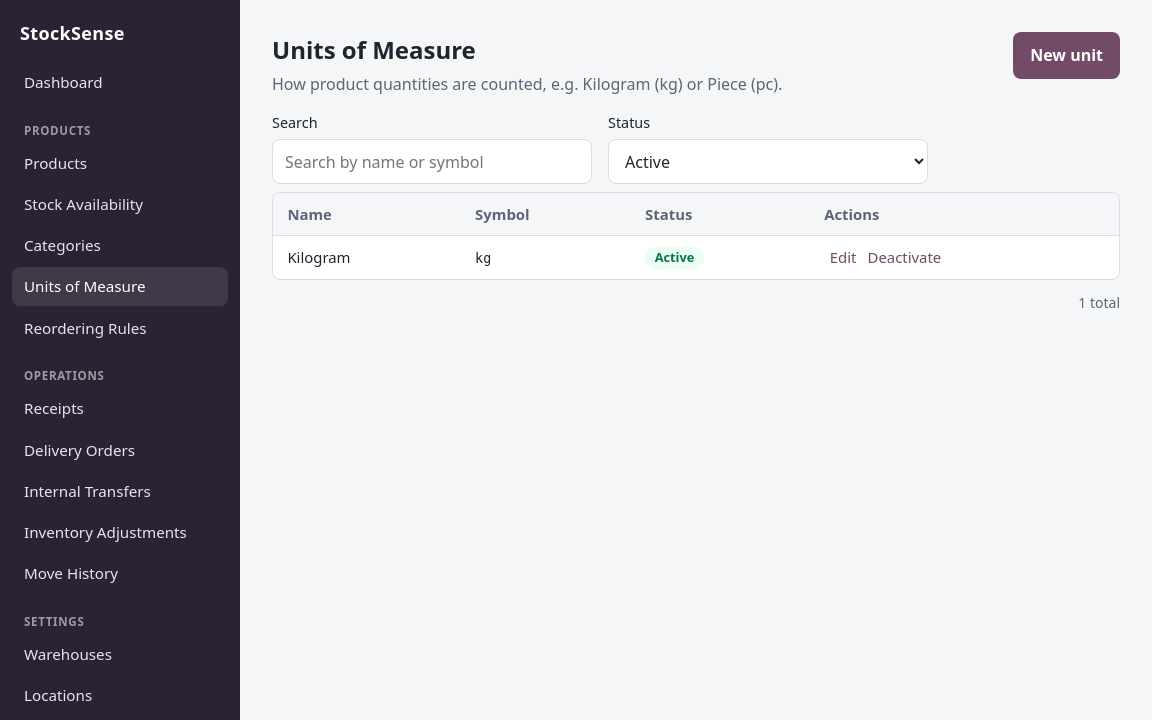
Test: units of measure › shows a duplicate-symbol error from the API
Click the button "New unit" at coordinates (1067, 55), box [1013,32,1120,79]
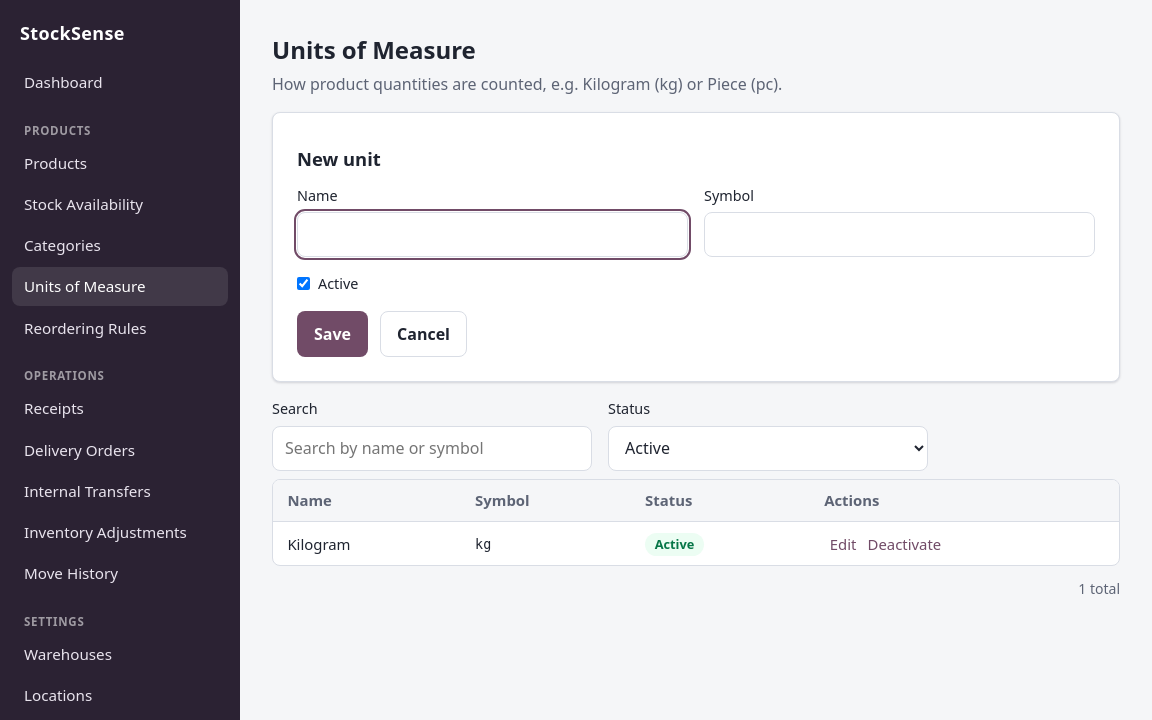
Type "Kilo" into the field labelled "Name" at coordinates (492, 234), box [297,212,688,257]
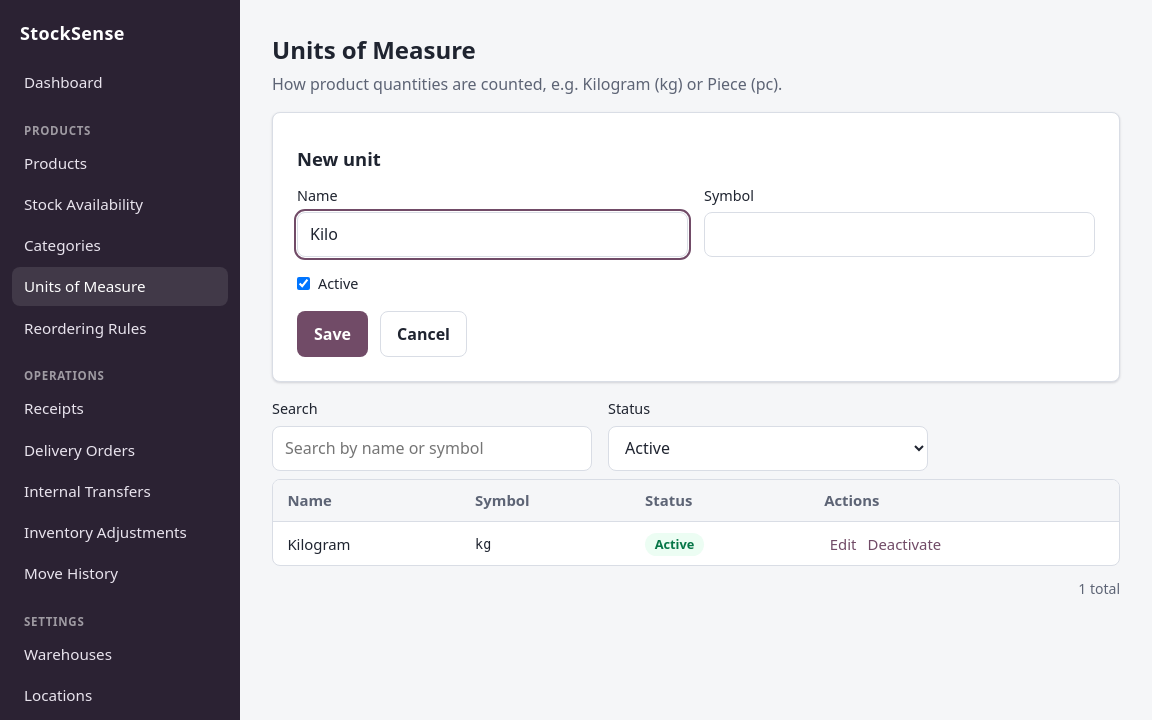
Type "kg" into the field labelled "Symbol" at coordinates (900, 234), box [704,212,1095,257]
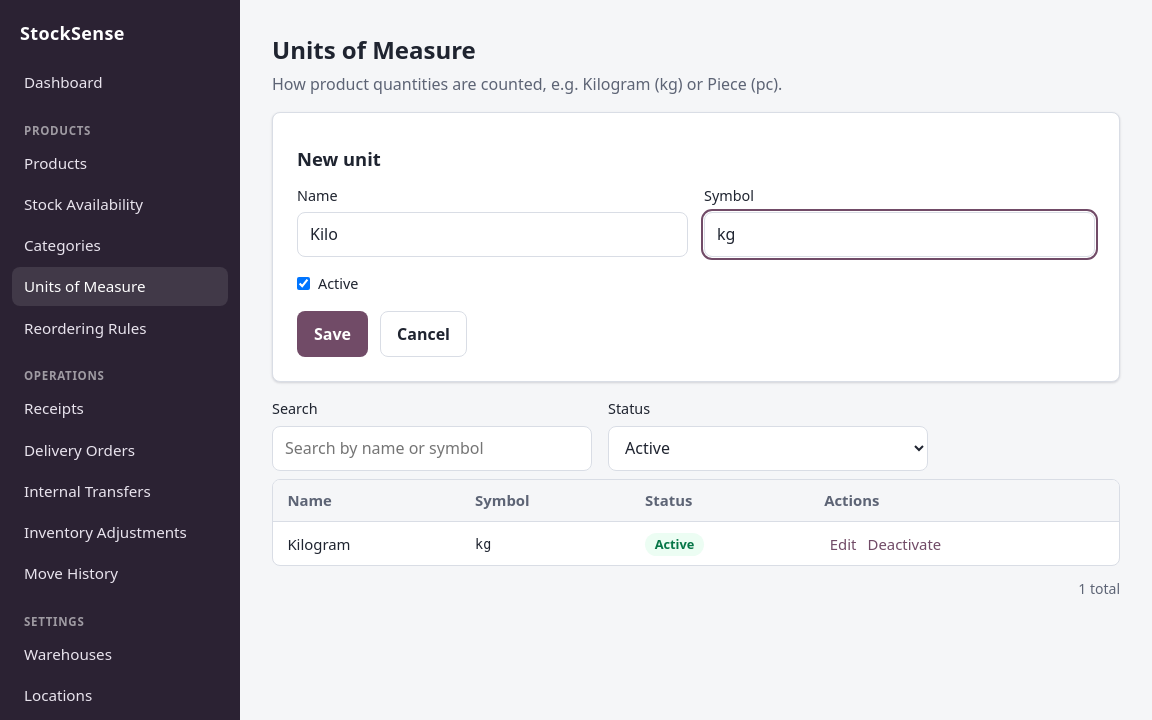
Click the button "Save" at coordinates (332, 334), box [297,311,368,357]
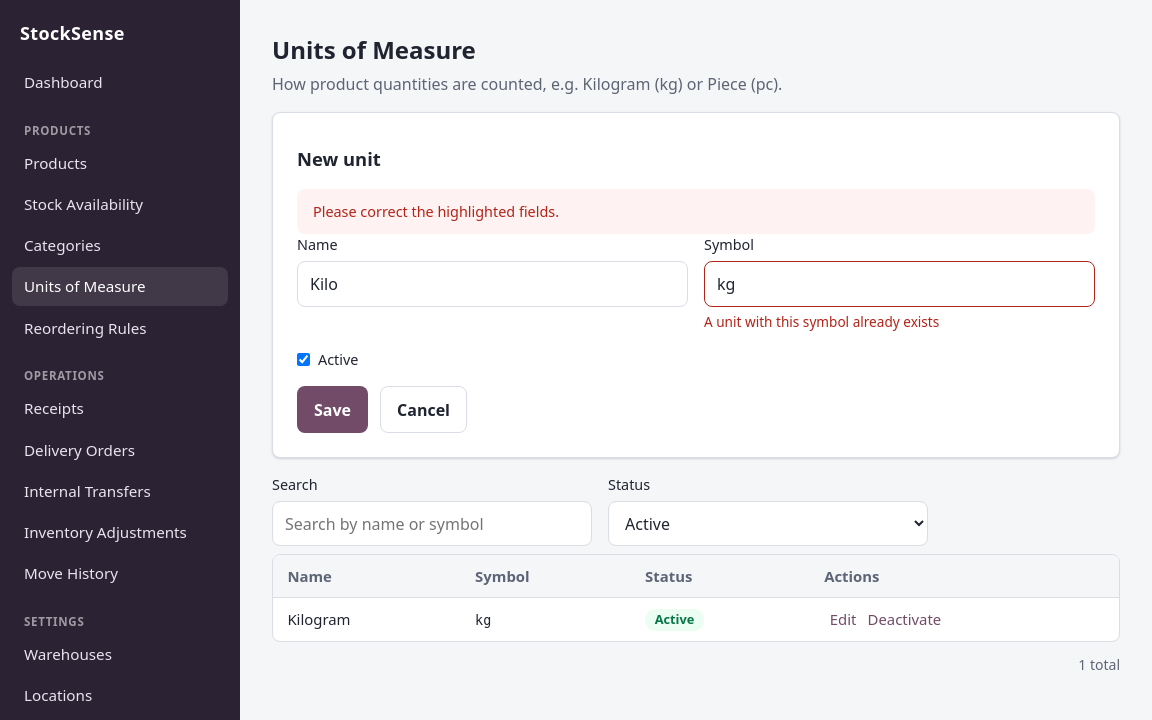
Now the text "A unit with this symbol already exists" is shown, box [704,312,939,331]
